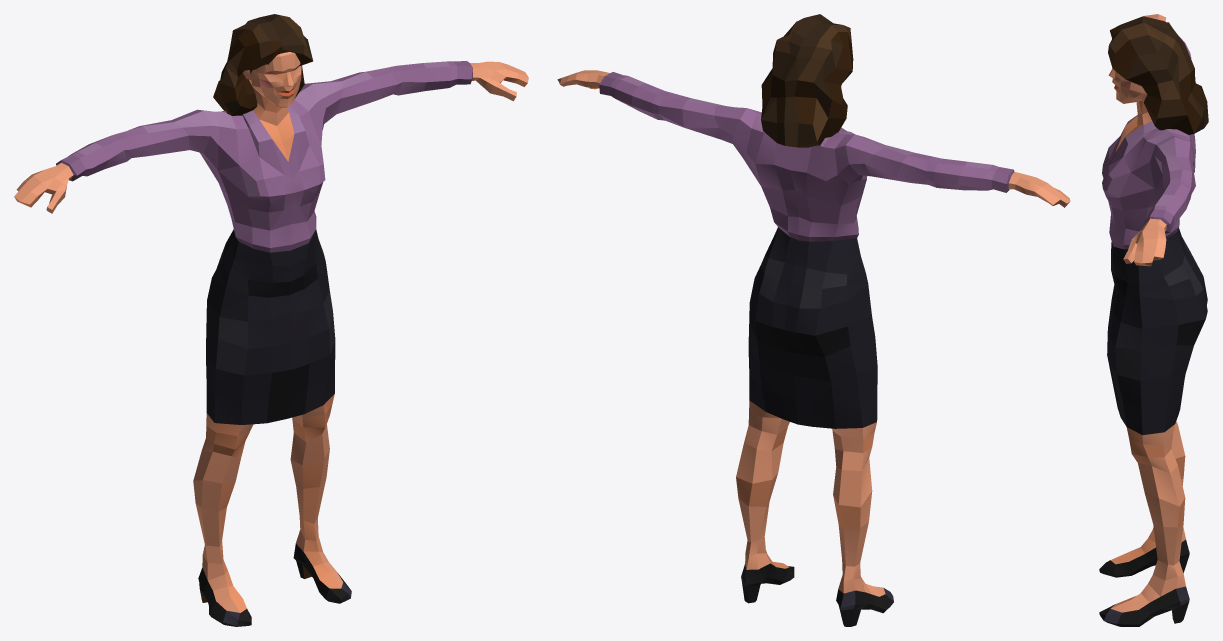
The model's file is office_Female_A-model.obj.
The picture shows the model from 3 angles, left to right: view 1: azimuth 30°, elevation 25°; view 2: azimuth 150°, elevation 25°; view 3: azimuth 270°, elevation 25°; orthographic projection.
Parts seen in each view (by area): view 1: office_Female_A, acc_hair_long; view 2: office_Female_A, acc_hair_long; view 3: office_Female_A, acc_hair_long.
Boxes of the visible parts, x1,y1,x2,y2 form: office_Female_A: [14, 52, 528, 626]; acc_hair_long: [213, 14, 312, 115]; office_Female_A: [557, 70, 1070, 626]; acc_hair_long: [761, 14, 853, 147]; office_Female_A: [1099, 14, 1207, 626]; acc_hair_long: [1108, 16, 1208, 134].
Size of the model in its own units: 153 by 167 by 28.7.
